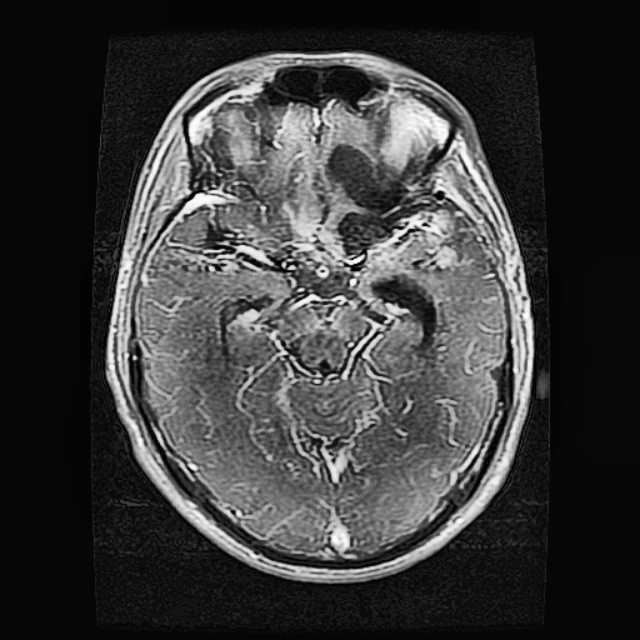Meningioma: (318, 94, 464, 269)
